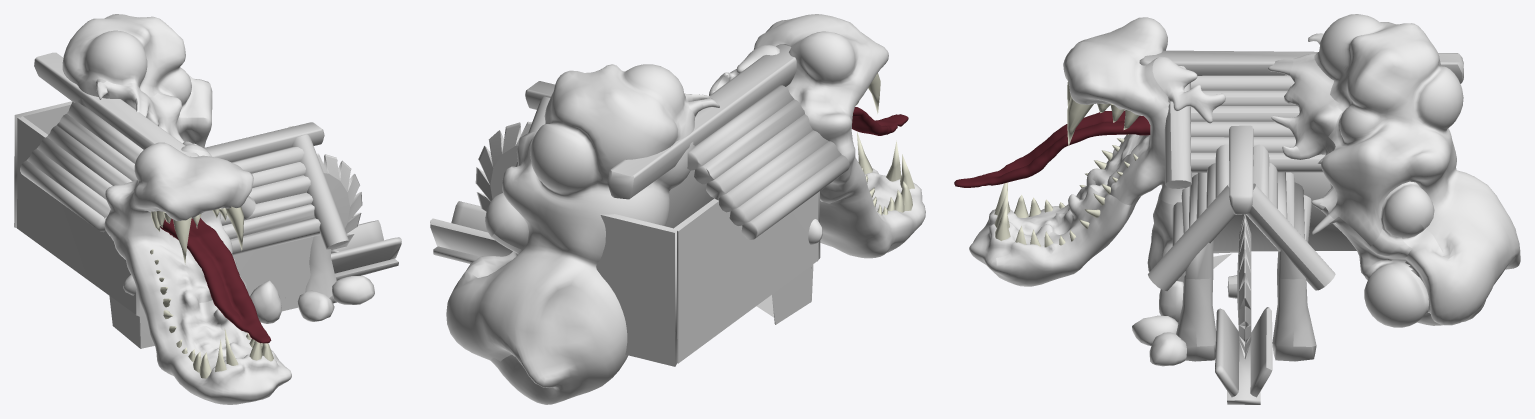
File: ratuszek2.fbx
3 views of the same model, side by side, from view 1: azimuth 30°, elevation 25°; view 2: azimuth 150°, elevation 25°; view 3: azimuth 270°, elevation 25° (orthographic). The views are drawn at different scales.
Visible parts, largest first — view 1: mieskoremeshed.001; view 2: mieskoremeshed.001; view 3: mieskoremeshed.001.
Part boxes in pixels (x1,y1,x2,y2): mieskoremeshed.001: (14, 14, 401, 404); mieskoremeshed.001: (430, 14, 925, 404); mieskoremeshed.001: (954, 14, 1520, 404).
Bounding box in the file's own units: 2326 × 1776 × 3266.
